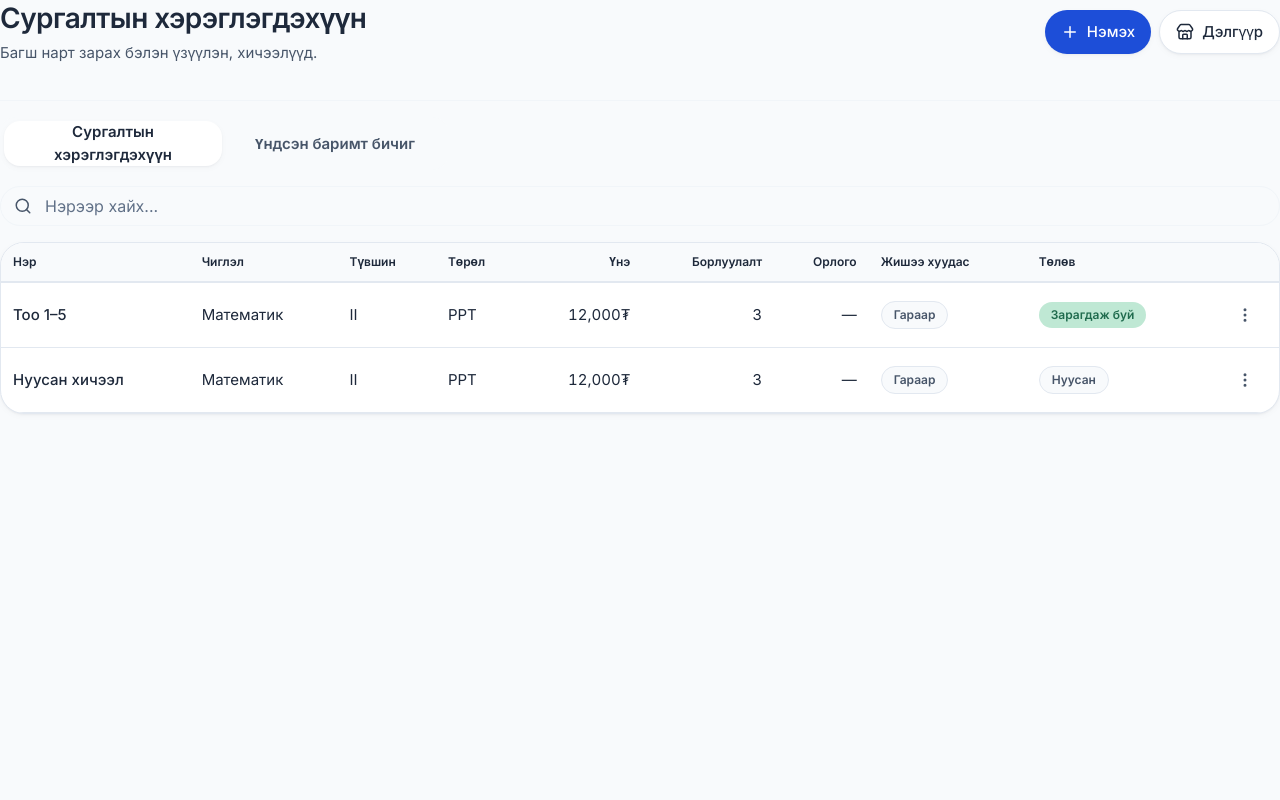
Test: the platform's teaching materials › shows the shop as teachers see it — on sale only, nothing to buy
Expected: the table named "Сургалтын хэрэглэгдэхүүний каталог" is shown, [1, 243, 1279, 413]
Click the button "Дэлгүүр": click(1220, 32) [1159, 10, 1279, 54]
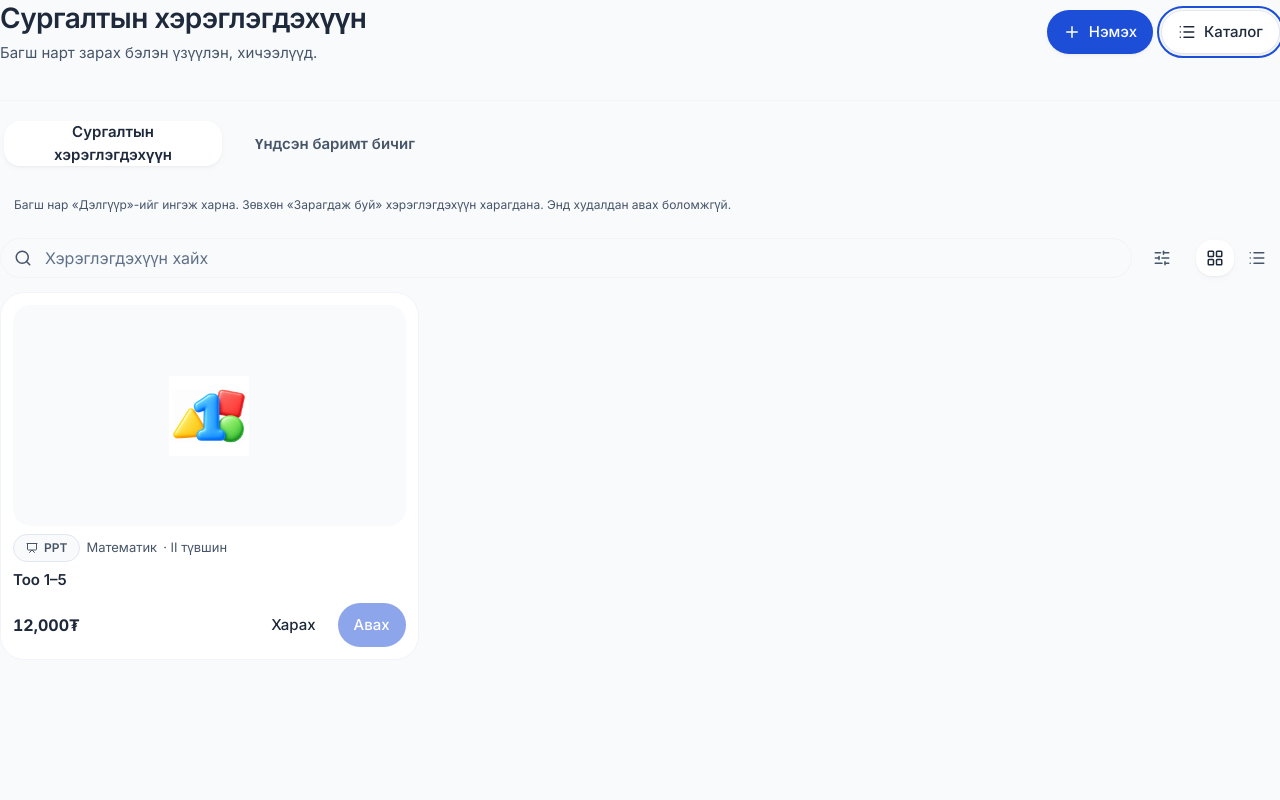
Expected: the heading "Тоо 1–5" is shown, [13, 570, 67, 589]
Now the text "Нуусан хичээл" is gone
Now the button "Авах" is disabled, box [338, 603, 406, 647]
Note: The sample pages open on an A4 sheet, and nothing reads as owned.
Click the button "Харах": click(293, 625) [255, 603, 332, 647]
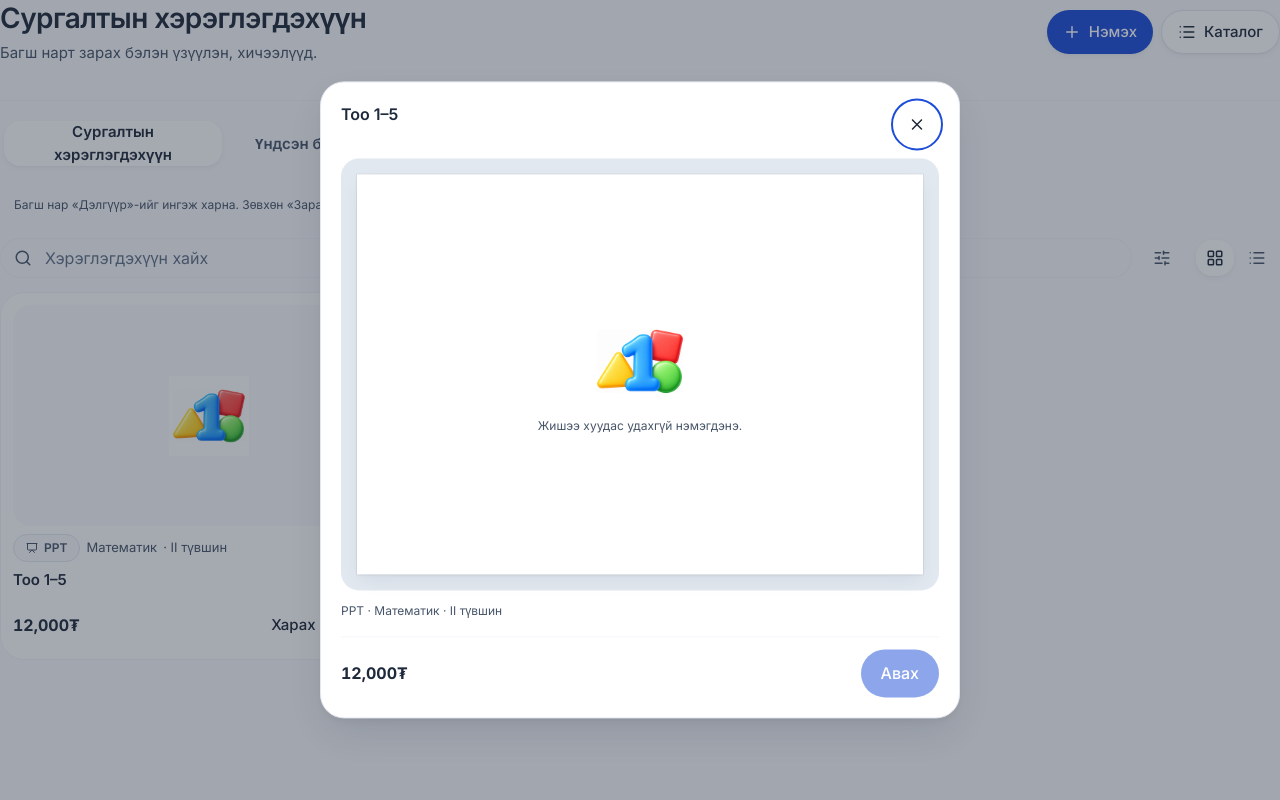
Now the element showing "Жишээ хуудас удахгүй нэмэгдэнэ." is shown, box [357, 174, 923, 575]
Now the button "Авах" is disabled, box [860, 650, 939, 698]
Press Escape
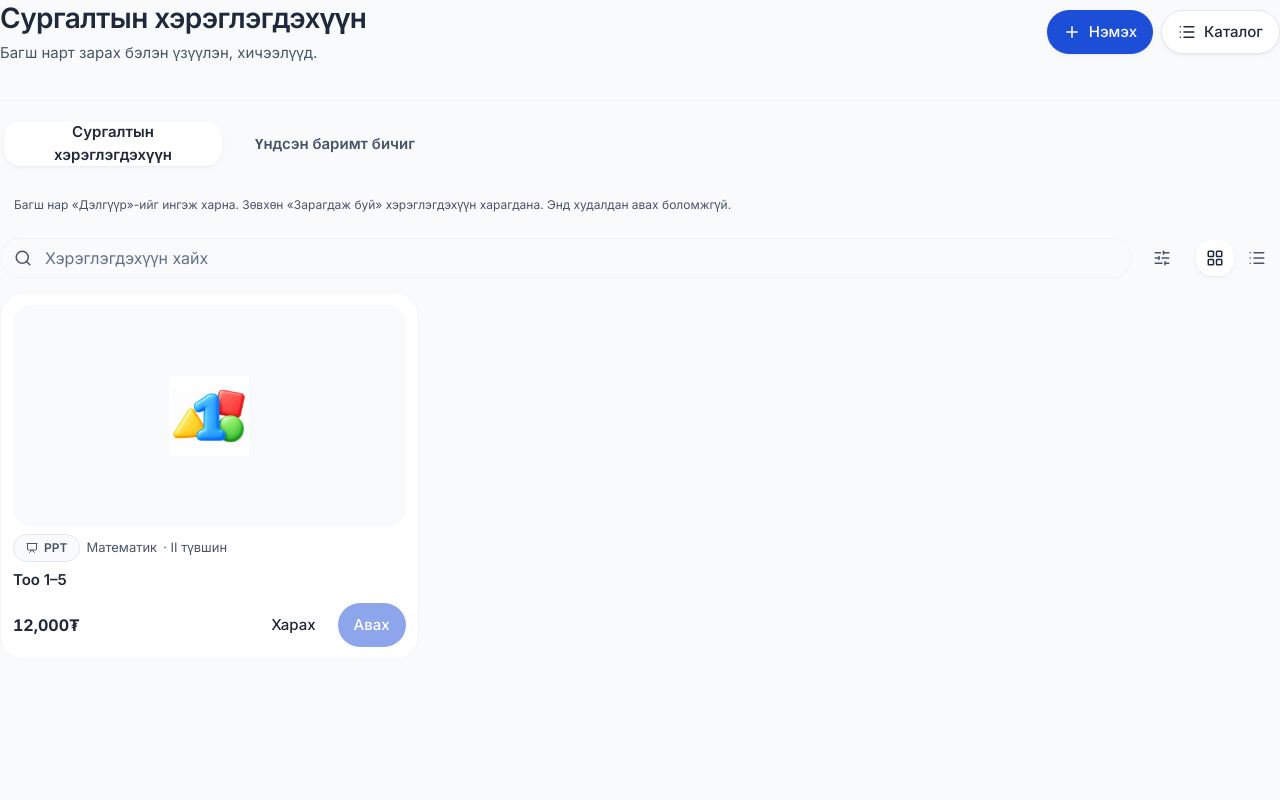
Note: And back to the catalog.
Click the button "Каталог": click(1220, 32) [1161, 10, 1279, 54]
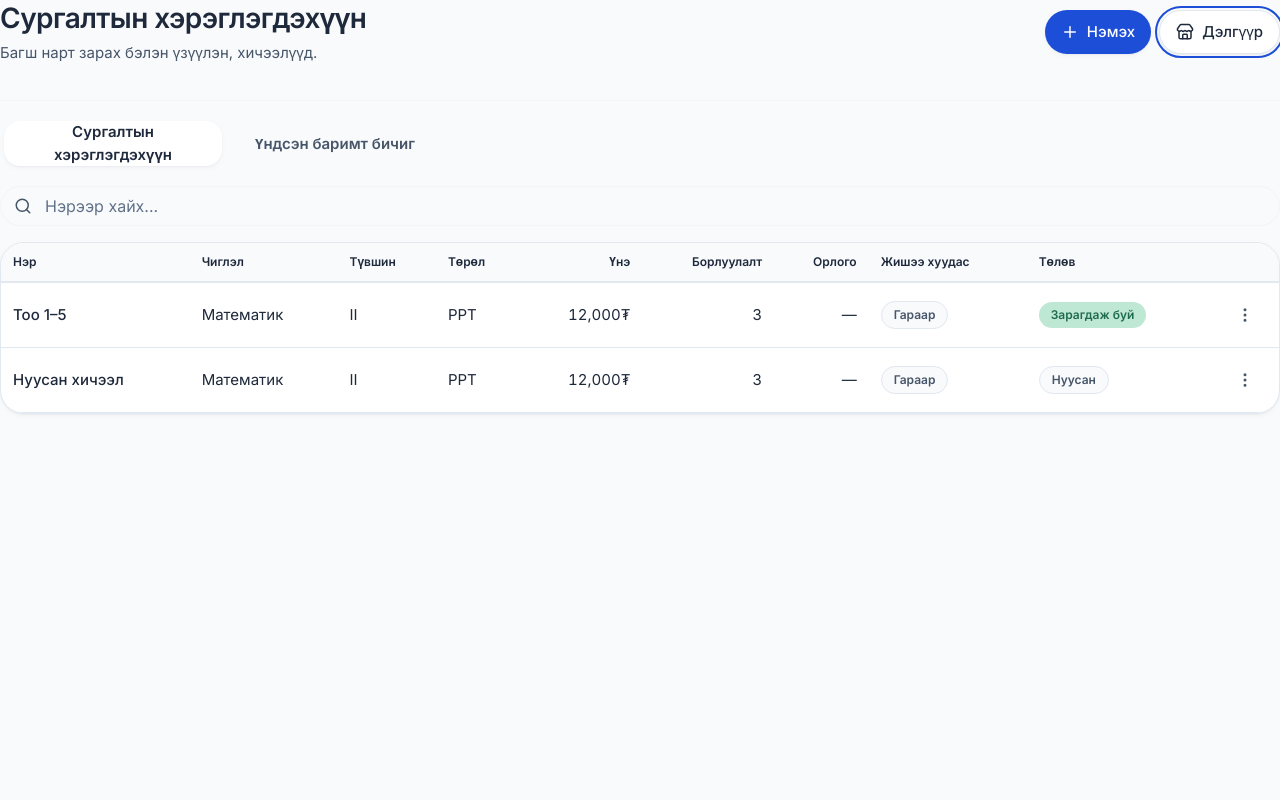
Now the table is shown, box [1, 243, 1279, 413]
